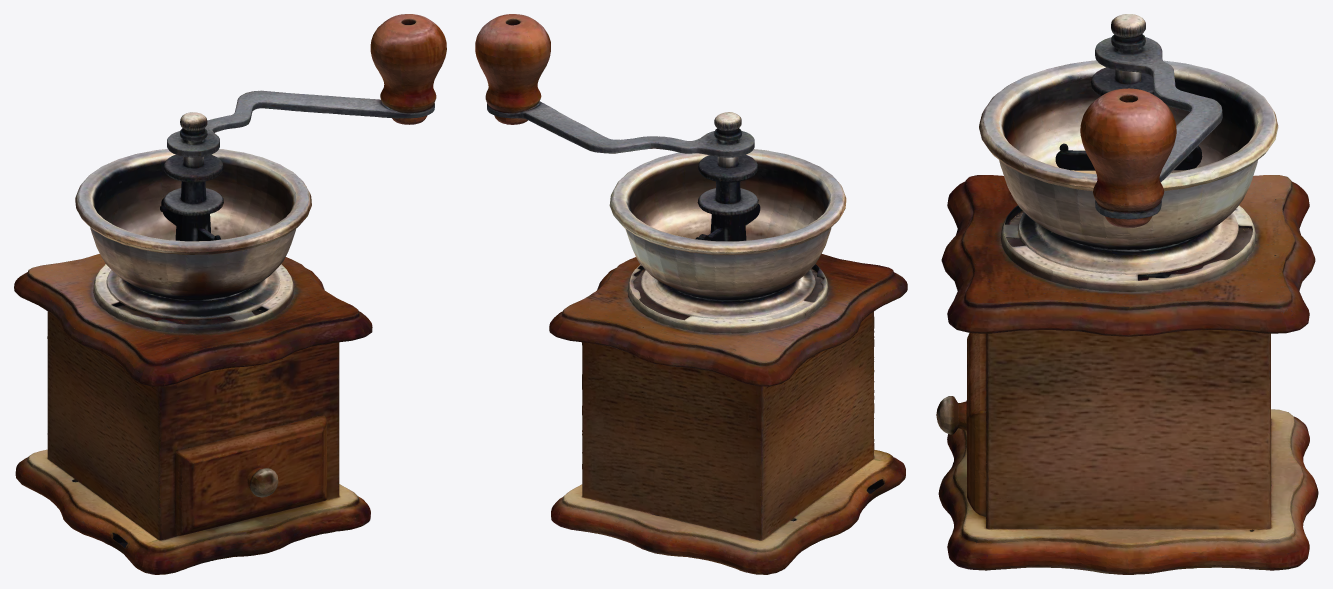
Rendered from degirmen.glb.
The picture shows the model from 3 angles, left to right: view 1: azimuth 30°, elevation 25°; view 2: azimuth 150°, elevation 25°; view 3: azimuth 270°, elevation 25°; orthographic projection. The views are drawn at different scales.
Parts seen in each view (by area): view 1: geometry_0; view 2: geometry_0; view 3: geometry_0.
Boxes of the visible parts, x1=… form: geometry_0: x1=14, y1=14, x2=446, y2=574; geometry_0: x1=475, y1=14, x2=907, y2=574; geometry_0: x1=936, y1=14, x2=1318, y2=574.
Bounding box in the file's own units: 0.9131 × 1 × 0.6458.
Materials: 1 (1 with a texture image).
